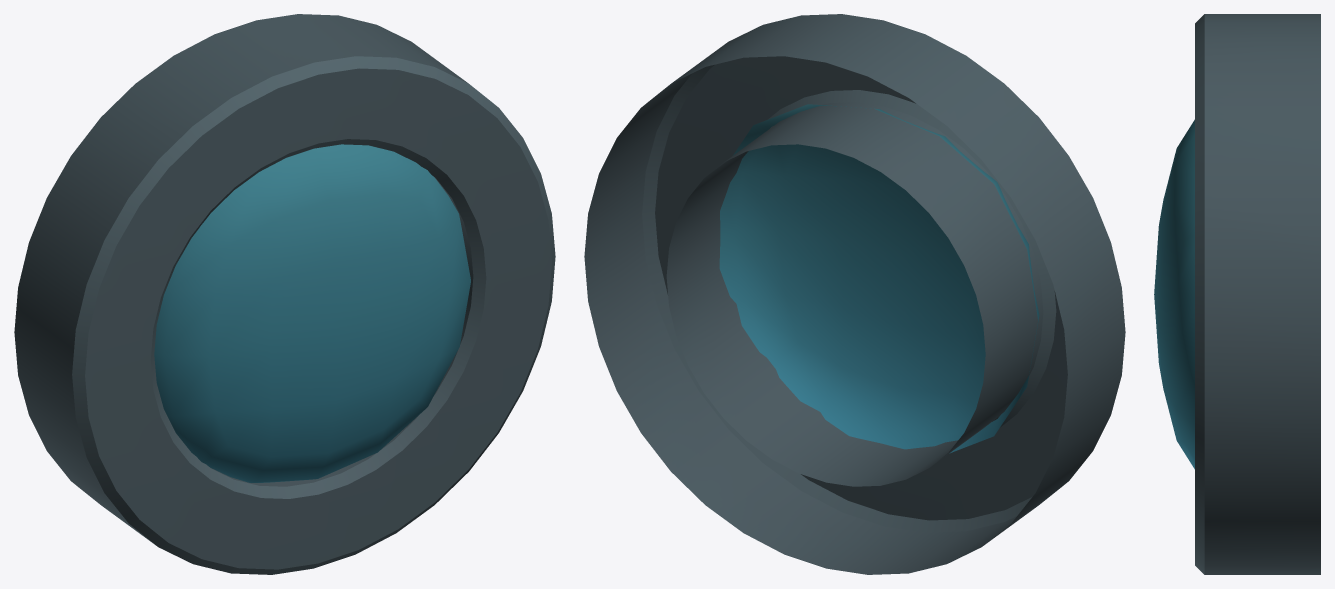
Rendered from SM_Window.fbx.
The picture shows the model from 3 angles, left to right: view 1: azimuth 30°, elevation 25°; view 2: azimuth 150°, elevation 25°; view 3: azimuth 270°, elevation 25°; orthographic projection.
Visible parts, largest first — view 1: SM_Window; view 2: SM_Window; view 3: SM_Window.
Boxes of the visible parts, x1=… form: SM_Window: x1=14, y1=14, x2=555, y2=574; SM_Window: x1=584, y1=14, x2=1125, y2=574; SM_Window: x1=1154, y1=14, x2=1320, y2=574.
Size of the model in its own units: 171 by 171 by 50.75.
1 material, 1 textured.
